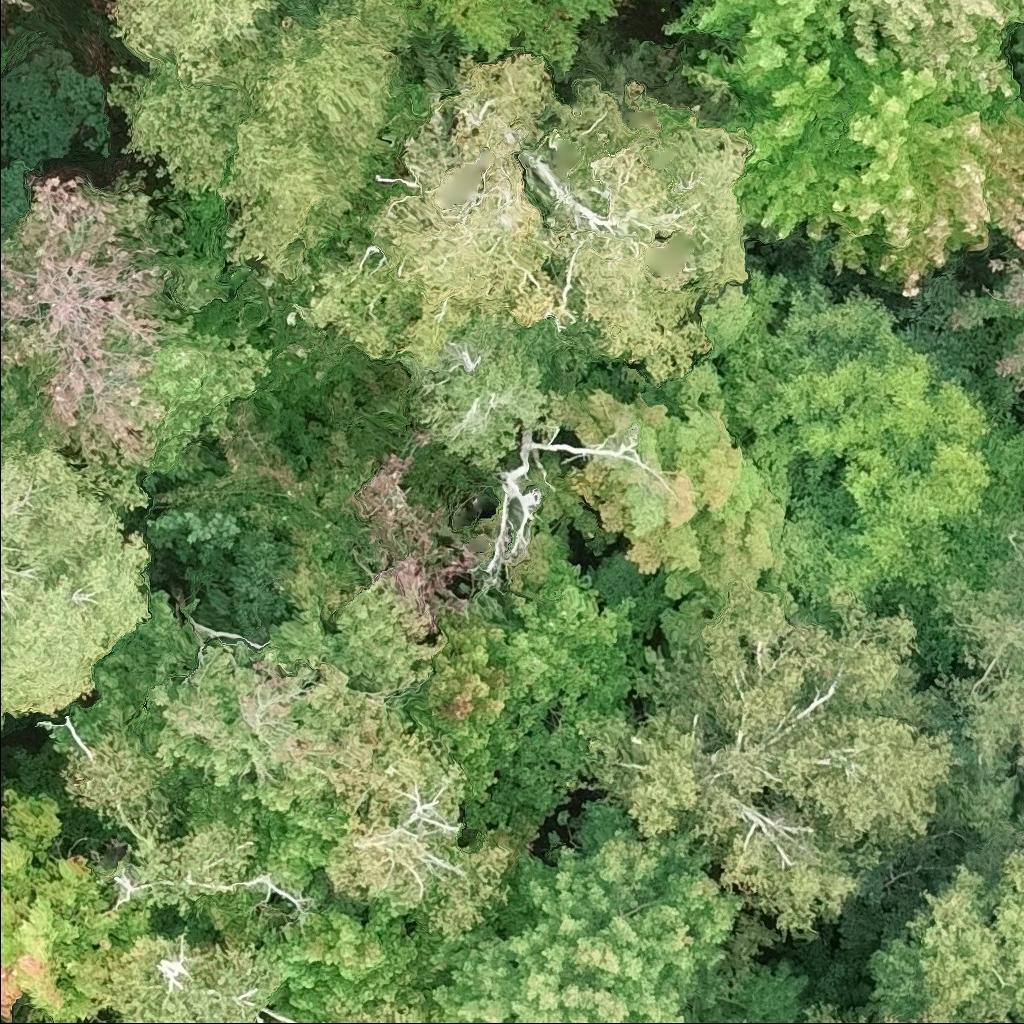crown: (295, 54, 751, 387), (571, 582, 960, 939), (717, 263, 1023, 610), (102, 0, 423, 287), (0, 166, 278, 479), (398, 536, 650, 848), (425, 792, 754, 1023), (728, 39, 1023, 296), (552, 359, 803, 635), (325, 705, 524, 951), (129, 638, 389, 821), (0, 431, 152, 732), (0, 786, 153, 1023), (914, 507, 1023, 838), (401, 310, 614, 469), (867, 811, 1023, 1023), (262, 902, 435, 1023), (63, 930, 284, 1023), (659, 0, 845, 102), (842, 0, 1023, 101), (409, 0, 631, 81), (125, 802, 266, 918), (59, 704, 181, 835), (949, 255, 1023, 405), (141, 506, 248, 564), (303, 1000, 423, 1023), (795, 1002, 922, 1023), (0, 385, 36, 445), (950, 1009, 1015, 1023)
